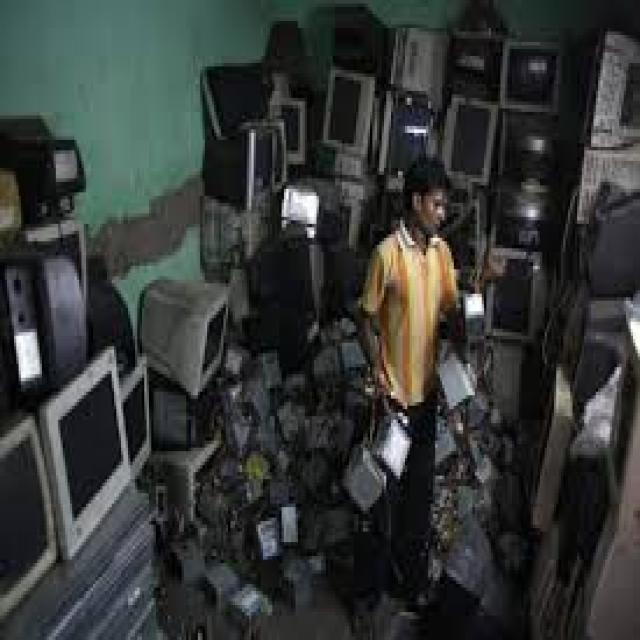Hazard: (0, 0, 627, 619)
